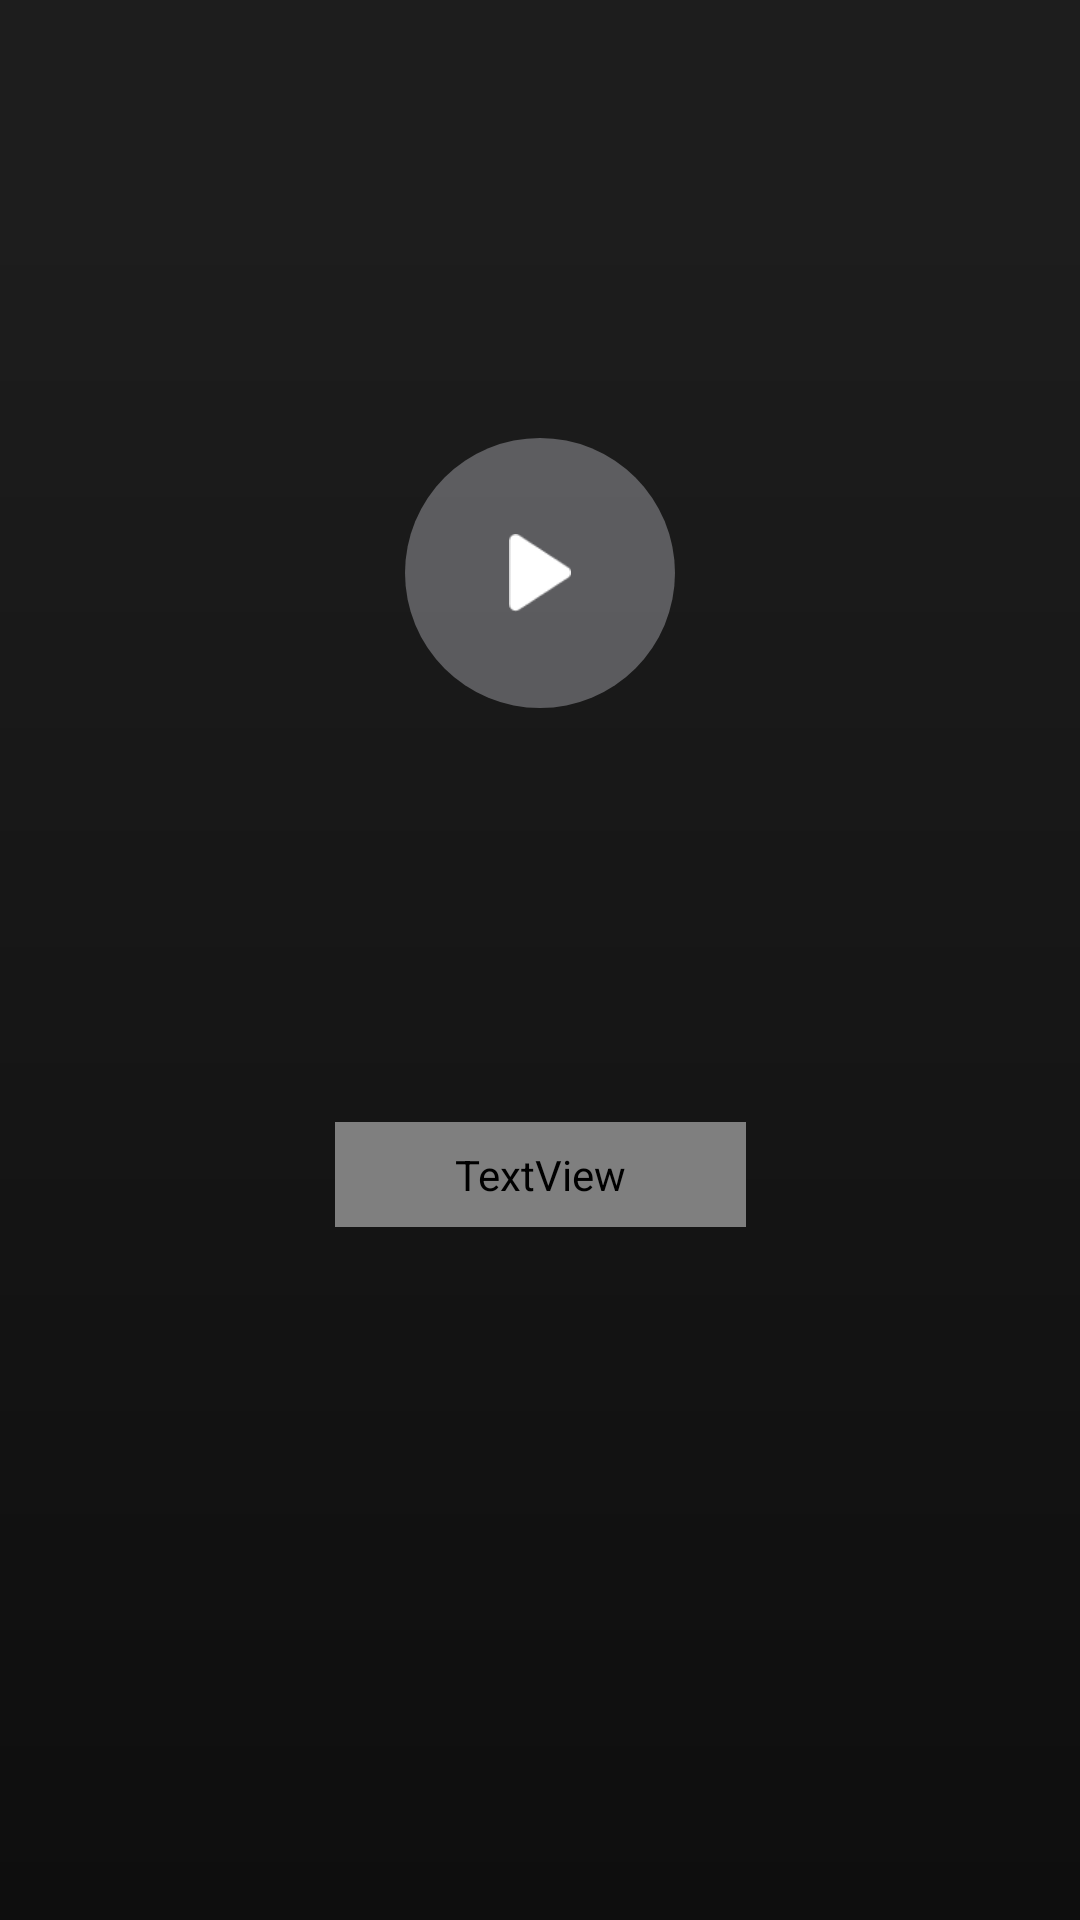

Where icons sit on this 1080px x 1920px app screen, as (x1, y1, x2, y2):
play: (509, 534, 571, 611)
